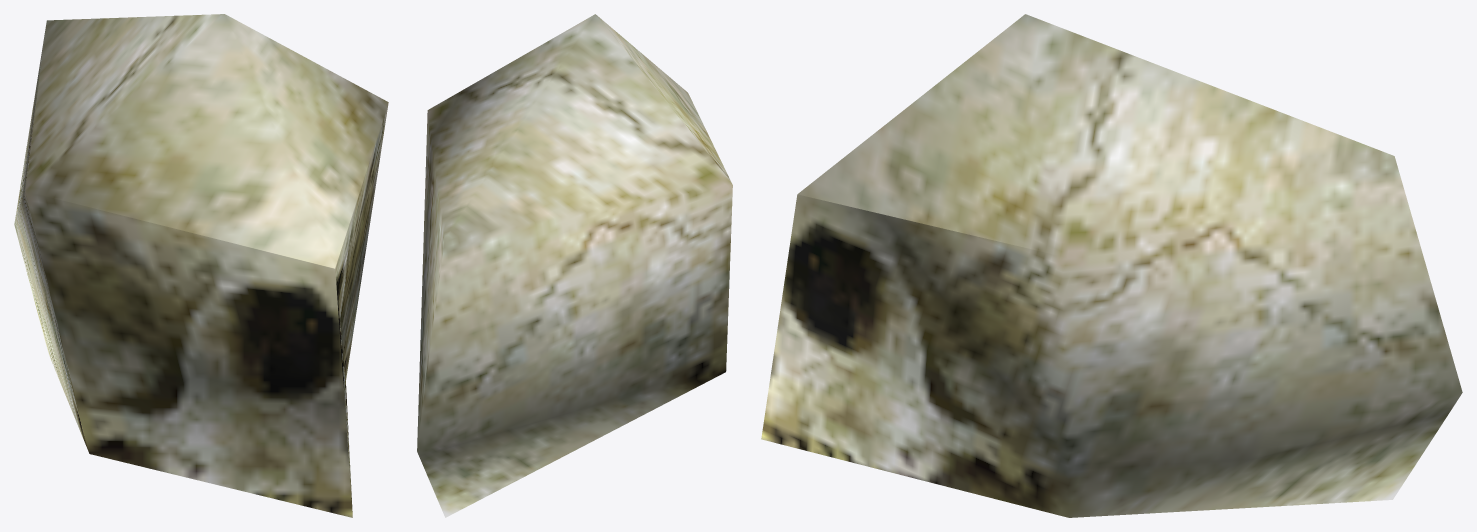
File: poi_all_skeleton_human_head_l3.fbx
3 renders of one model, left to right at view 1: azimuth 30°, elevation 25°; view 2: azimuth 150°, elevation 25°; view 3: azimuth 270°, elevation 25°, orthographic. The views are drawn at different scales.
Visible parts, largest first — view 1: mesh_node; view 2: mesh_node; view 3: mesh_node.
Boxes of the visible parts, x1,y1,x2,y2 form: mesh_node: (14,14,388,517); mesh_node: (417,14,732,517); mesh_node: (761,14,1462,517).
Size of the model in its own units: 0.142 by 0.1754 by 0.2297.
